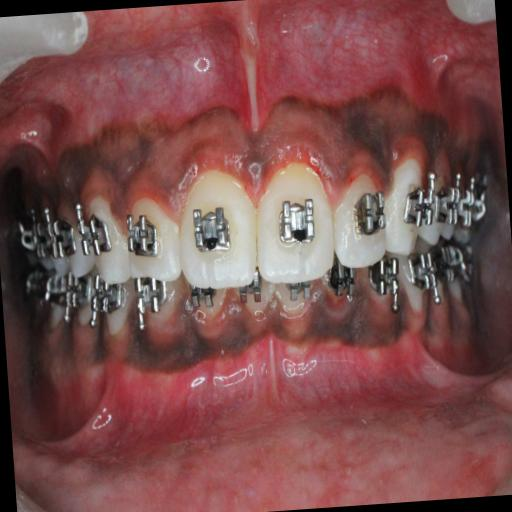correct_brace: (190, 203, 233, 260), (276, 192, 319, 249), (400, 175, 436, 231), (352, 188, 388, 238), (124, 212, 157, 259)
incorrect_brace: (329, 168, 385, 266), (122, 199, 180, 282)
